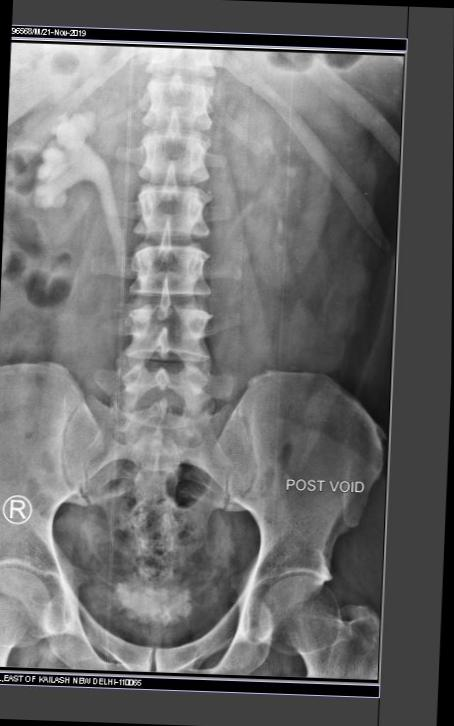bladder: (84, 546, 237, 648)
right kidney: (1, 80, 137, 294)
vertebrae: (138, 130, 213, 186)
